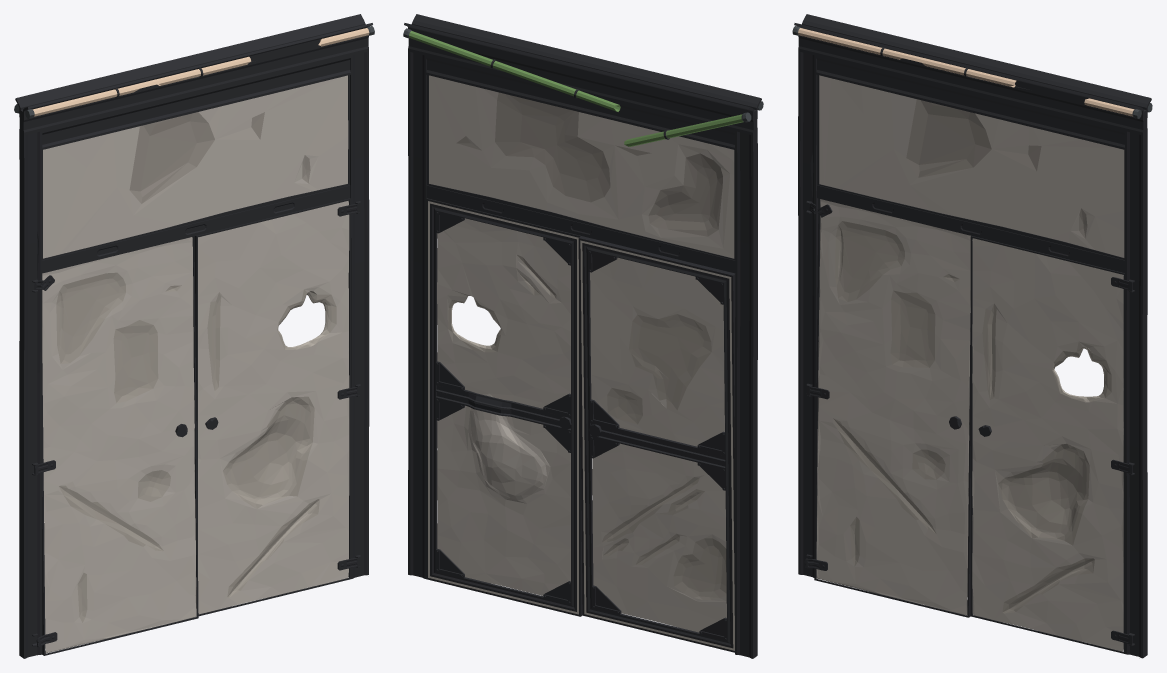
Rendered from SM_Wall_Door_Broken.gltf.
The picture shows the model from 3 angles, left to right: view 1: azimuth 30°, elevation 25°; view 2: azimuth 150°, elevation 25°; view 3: azimuth 330°, elevation 25°; orthographic projection.
Visible parts, largest first — view 1: SM_Wall_Door_Broken, SM_Door_Left_For_Wall_Door_Broken, SM_Door_Right_For_Wall_Door_Broken; view 2: SM_Wall_Door_Broken, SM_Door_Left_For_Wall_Door_Broken, SM_Door_Right_For_Wall_Door_Broken; view 3: SM_Wall_Door_Broken, SM_Door_Left_For_Wall_Door_Broken, SM_Door_Right_For_Wall_Door_Broken.
Part boxes in pixels (x1,y1,x2,y2): SM_Wall_Door_Broken: (14,14,374,658); SM_Door_Left_For_Wall_Door_Broken: (34,236,198,655); SM_Door_Right_For_Wall_Door_Broken: (192,198,360,616); SM_Wall_Door_Broken: (403,14,763,658); SM_Door_Left_For_Wall_Door_Broken: (578,236,735,652); SM_Door_Right_For_Wall_Door_Broken: (426,198,582,616); SM_Wall_Door_Broken: (792,14,1152,658); SM_Door_Left_For_Wall_Door_Broken: (804,198,972,617); SM_Door_Right_For_Wall_Door_Broken: (970,235,1132,653).
Size of the model in its own units: 2 by 3.07 by 0.166.
